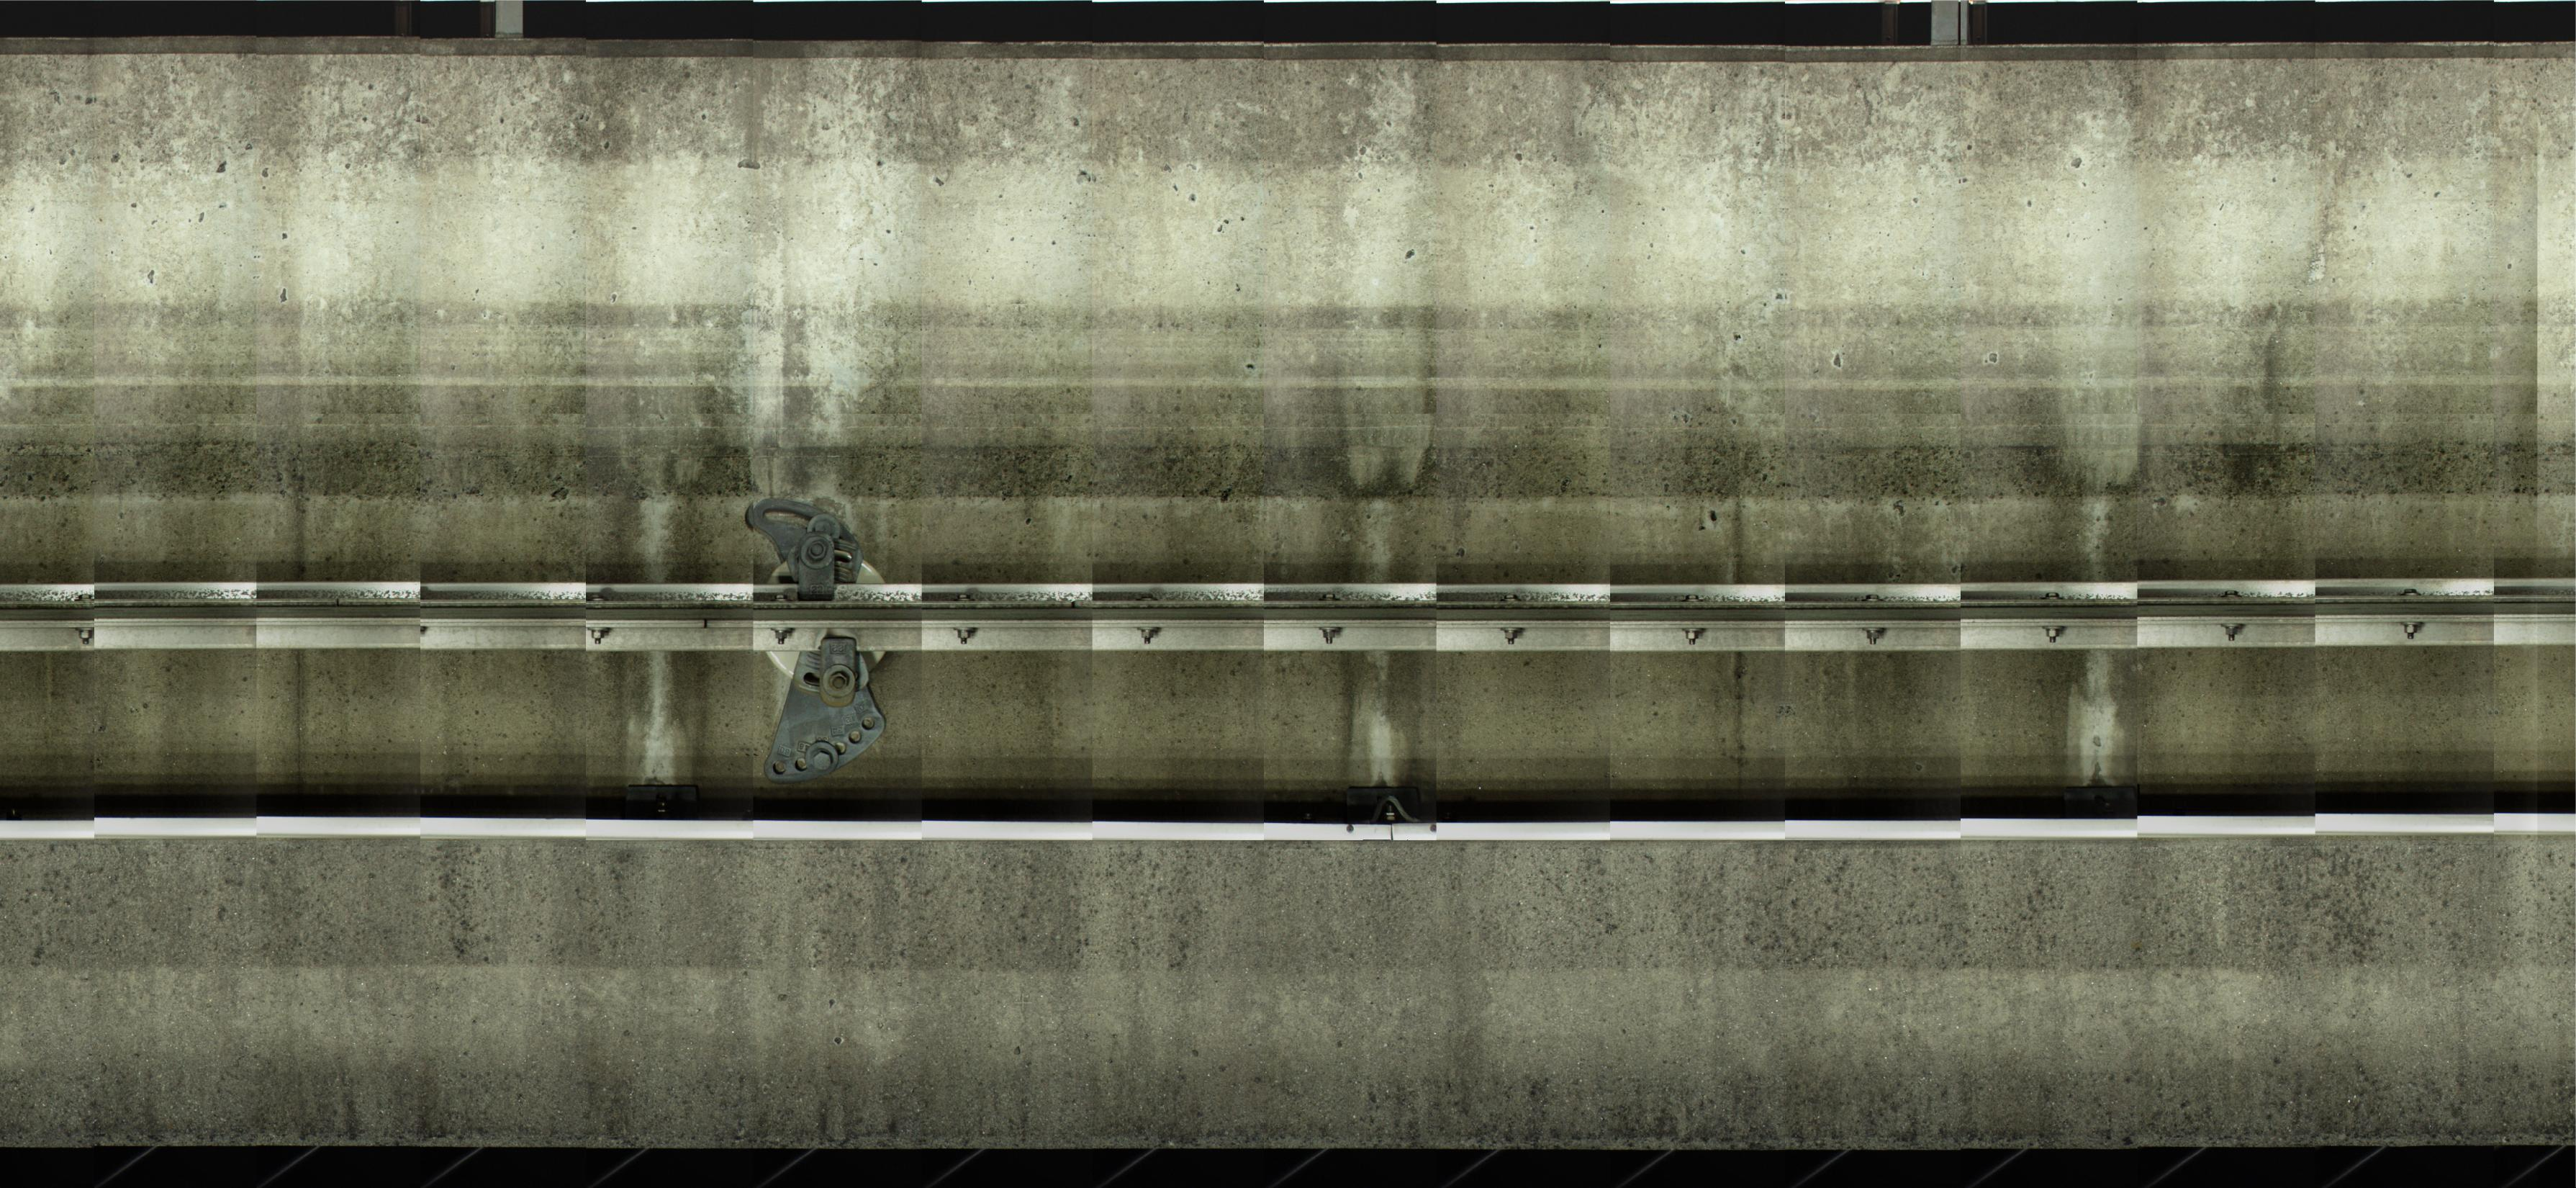concrete: (7, 43, 2563, 577), (7, 656, 2574, 1145)
